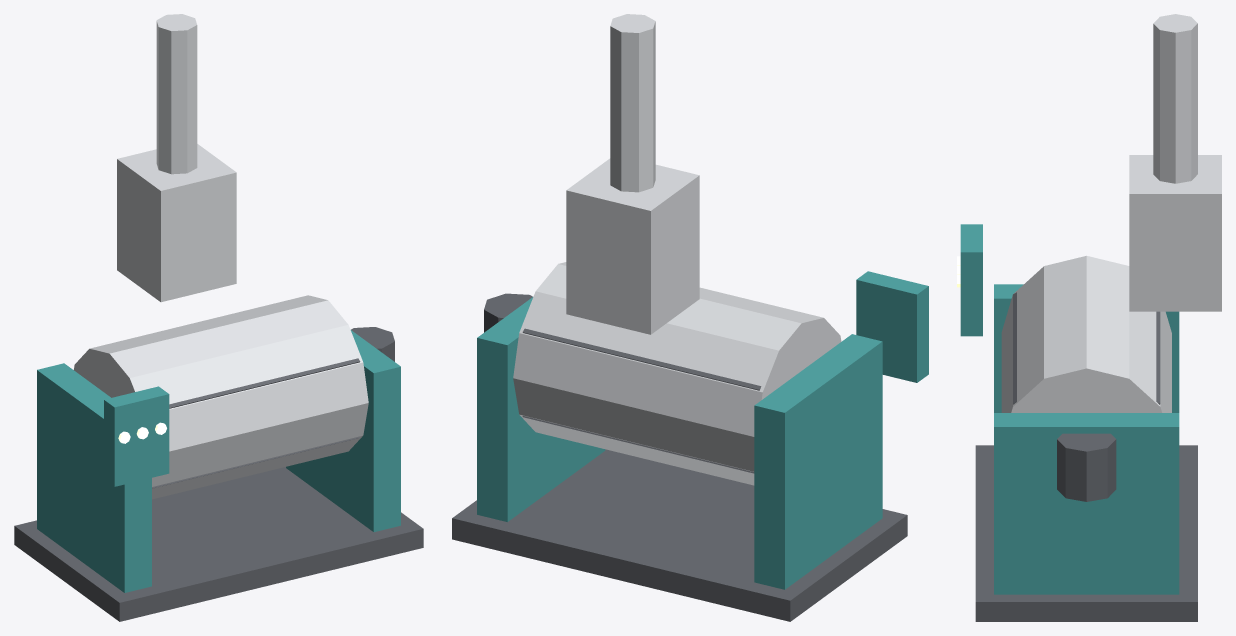
The model's file is chocolate-and-confectionery-factory-cocoa-bean-roaster-0aa29700__36759.glb.
3 views of the same model, side by side, from view 1: azimuth 30°, elevation 25°; view 2: azimuth 150°, elevation 25°; view 3: azimuth 270°, elevation 25° (orthographic). The views are drawn at different scales.
Visible parts, largest first — view 1: cocoa-bean-roaster-drum, drum-roaster/steel, drum-roaster/dark; view 2: cocoa-bean-roaster-drum, drum-roaster/steel, drum-roaster/dark; view 3: cocoa-bean-roaster-drum, drum-roaster/steel, drum-roaster/dark.
Part boxes in pixels (x1=…): cocoa-bean-roaster-drum: x1=14, y1=14, x2=423, y2=621; drum-roaster/steel: x1=74, y1=295, x2=368, y2=499; drum-roaster/dark: x1=152, y1=358, x2=360, y2=488; cocoa-bean-roaster-drum: x1=452, y1=14, x2=928, y2=621; drum-roaster/steel: x1=513, y1=262, x2=841, y2=485; drum-roaster/dark: x1=522, y1=328, x2=761, y2=473; cocoa-bean-roaster-drum: x1=957, y1=14, x2=1221, y2=621; drum-roaster/steel: x1=1001, y1=255, x2=1171, y2=412; drum-roaster/dark: x1=1013, y1=292, x2=1160, y2=404.
Size of the model in its own units: 2.22 by 3.1 by 1.43.
